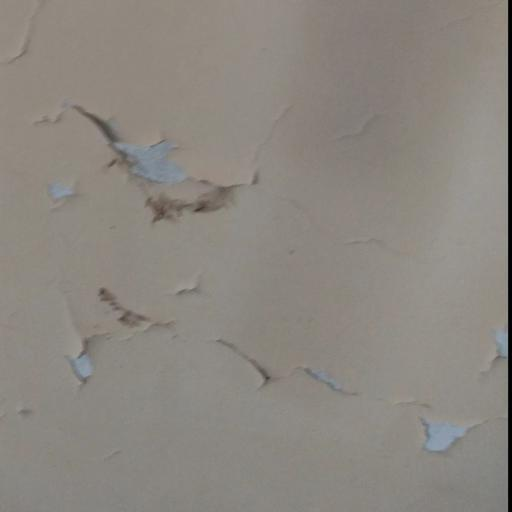peeling: (0, 0, 273, 416), (400, 383, 500, 466), (294, 344, 371, 411), (472, 318, 512, 388)
